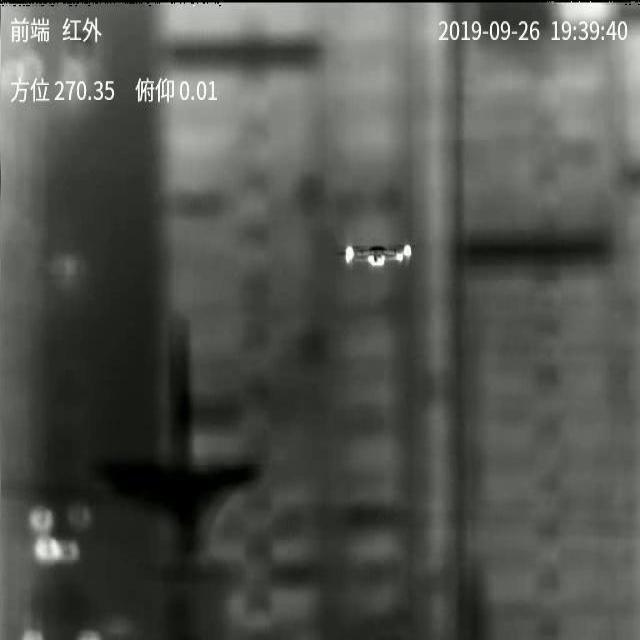drone: (335, 243, 413, 267)
